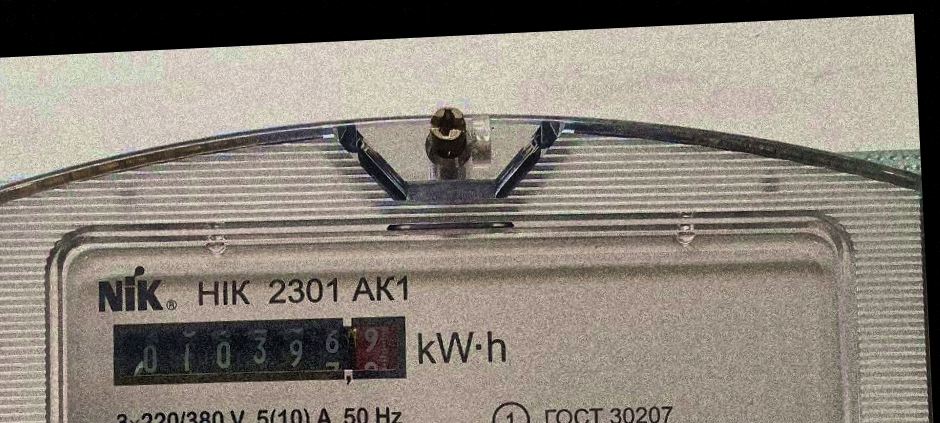0: (211, 337, 234, 371), (138, 341, 159, 375)
1: (179, 339, 193, 373)
3: (249, 333, 269, 367)
6: (320, 326, 342, 356)
9: (284, 336, 305, 370), (358, 325, 381, 356)
screen: (95, 297, 418, 406)
